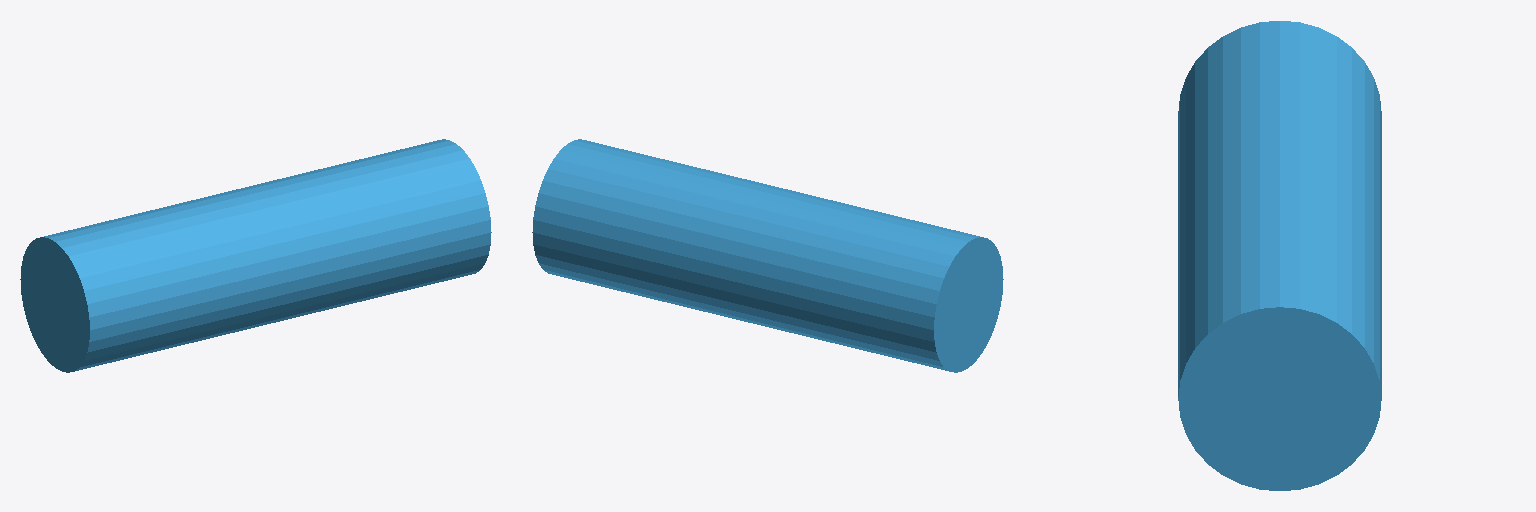
URDF robot description (table):
<robot name="table">

    <link name="world">
    </link>

    <joint name="world_to_cylinder" type="fixed">
        <parent link="world"/>
        <child link="cylinder"/>
    </joint>

    <link name="cylinder">
        <inertial>
            <mass value="0.001"/>
            <inertia ixx="0.1" iyy="0.1" izz="0.1" ixy="0.0" ixz="0.0" iyz="0.0"/>
        </inertial>
        <visual>
            <origin xyz="0.0 0.0 0.0" rpy="0 1.5708 0"/>
            <geometry>
                <cylinder radius="0.03" length="0.2"/>
            </geometry>
        </visual>
        <collision>
            <origin xyz="0.0 0.0 0.0" rpy="0 1.5708 0"/>
            <geometry>
                <cylinder radius="0.03" length="0.2"/>
            </geometry>
        </collision>
    </link>

</robot>

--- Render facts (derived) ---
The picture shows the robot from 3 angles, left to right: view 1: azimuth 30°, elevation 25°; view 2: azimuth 150°, elevation 25°; view 3: azimuth 270°, elevation 25°; orthographic projection.
Robot: table — 2 links, 1 joints (1 fixed); root link world; default pose: all joints at 0.
Visible links, largest first — view 1: cylinder; view 2: cylinder; view 3: cylinder.
Link boxes in pixels (bbox=[...]): cylinder: bbox=[20, 139, 491, 372]; cylinder: bbox=[532, 139, 1003, 372]; cylinder: bbox=[1178, 21, 1381, 490].
Bounding box of the posed robot: 0.2 × 0.06 × 0.06 m (x, y, z).
Geometry: primitives only (box / cylinder / sphere), no mesh files.